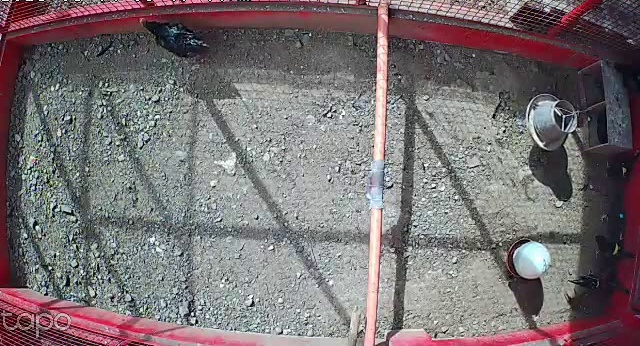Chicken: (137, 16, 215, 60), (598, 143, 640, 194), (597, 195, 634, 242), (591, 230, 640, 265)
Rooster: (572, 266, 633, 303)
Saddle_Color_Blue: (619, 214, 625, 218)
Saddle_Color_Yellow: (613, 244, 621, 255)
